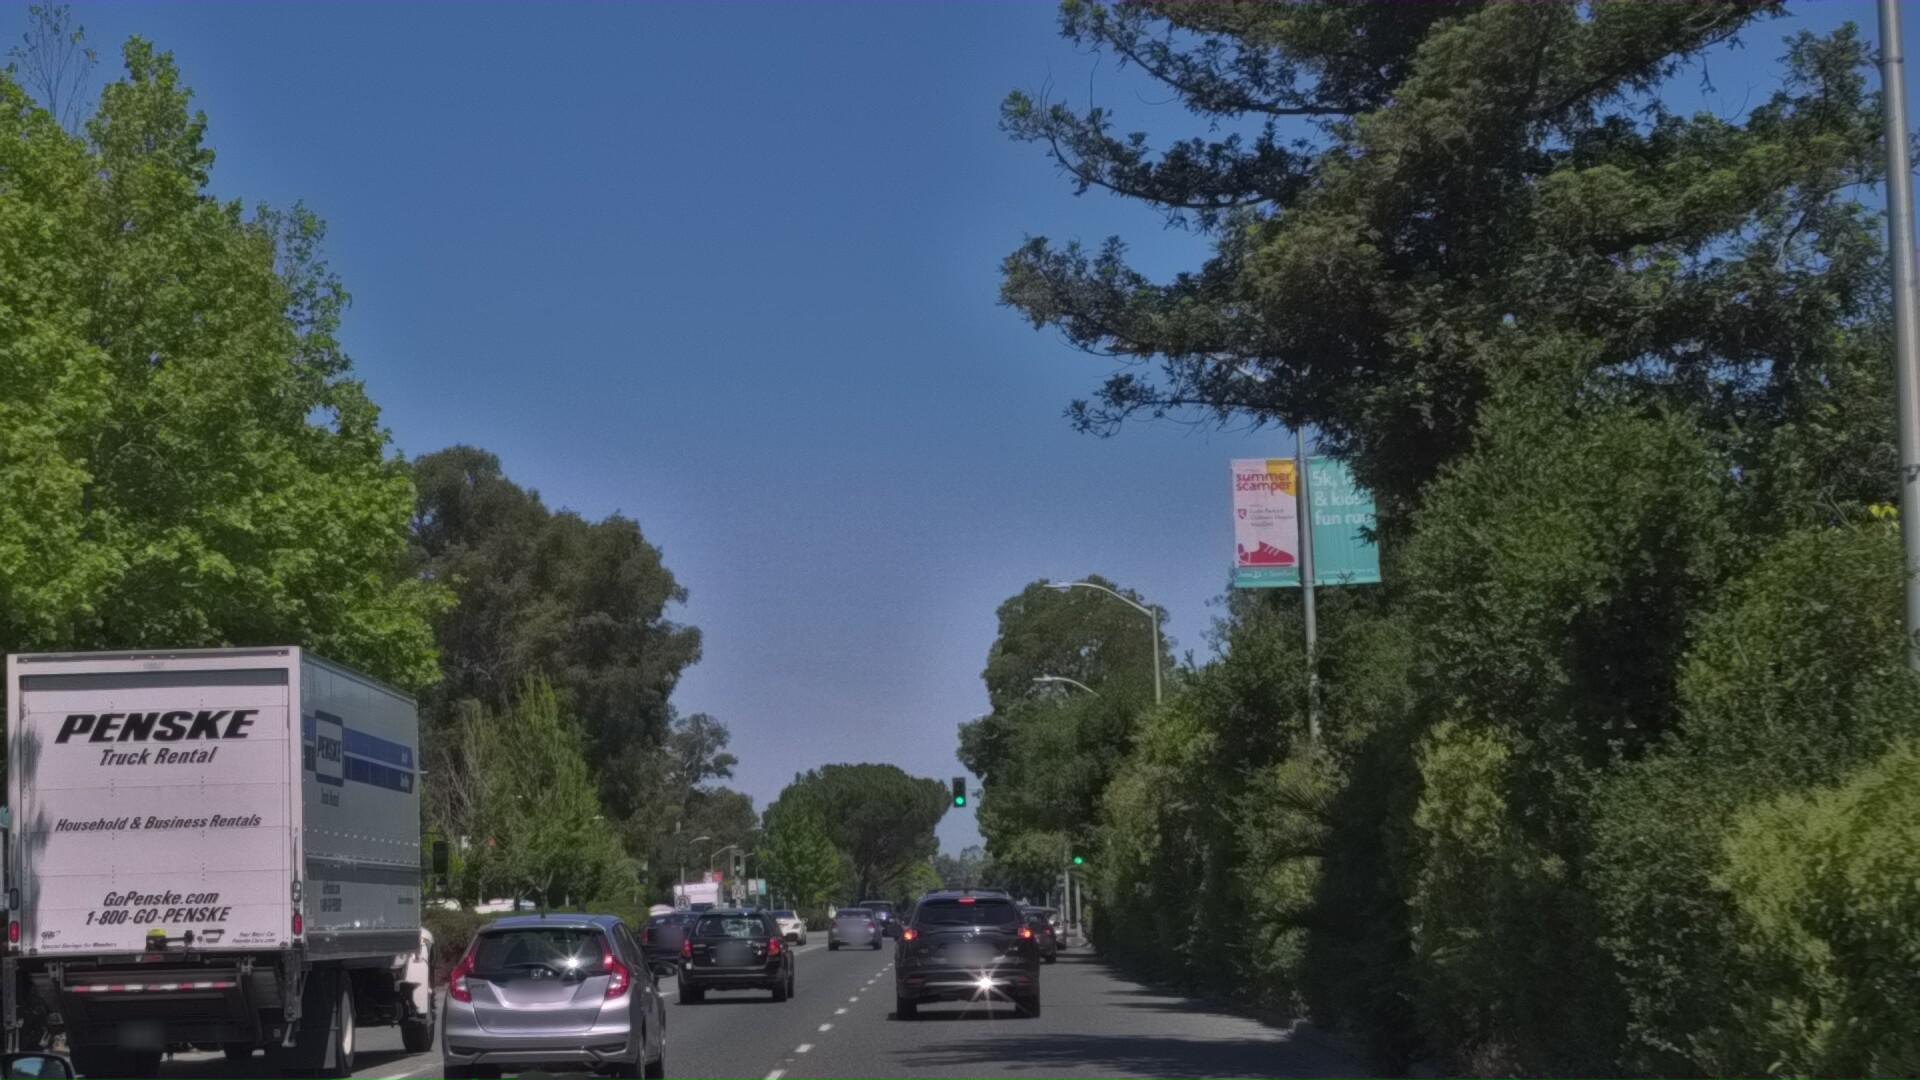car: (0, 855, 237, 1080), (419, 996, 680, 1080), (881, 971, 1058, 1080), (657, 985, 807, 1080)
truck: (0, 712, 491, 1080)
